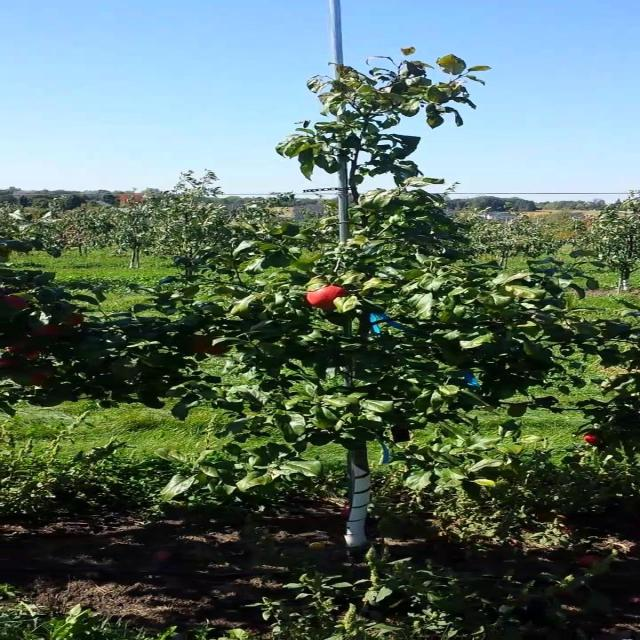apple: (305, 288, 350, 312), (13, 344, 44, 360), (35, 324, 64, 338), (6, 296, 30, 311), (191, 336, 212, 353), (28, 372, 52, 385), (205, 344, 229, 356), (20, 348, 43, 360), (63, 316, 85, 327), (582, 436, 603, 447), (6, 360, 23, 368)
